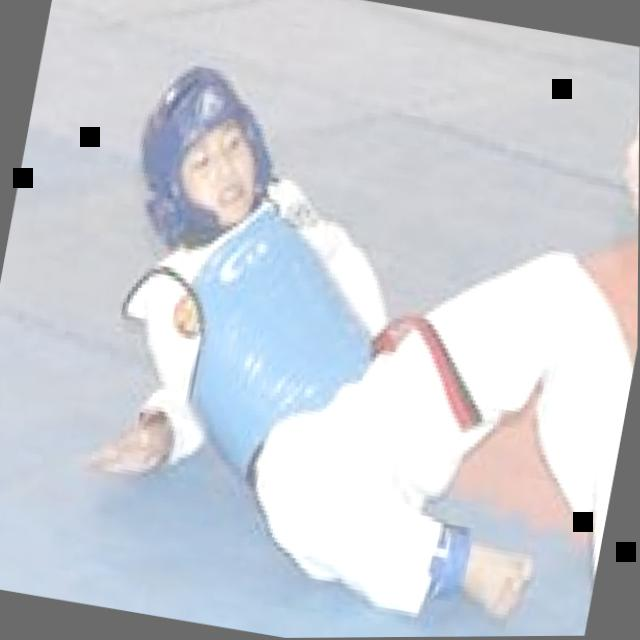Fall-Detected: (49, 0, 640, 640)
